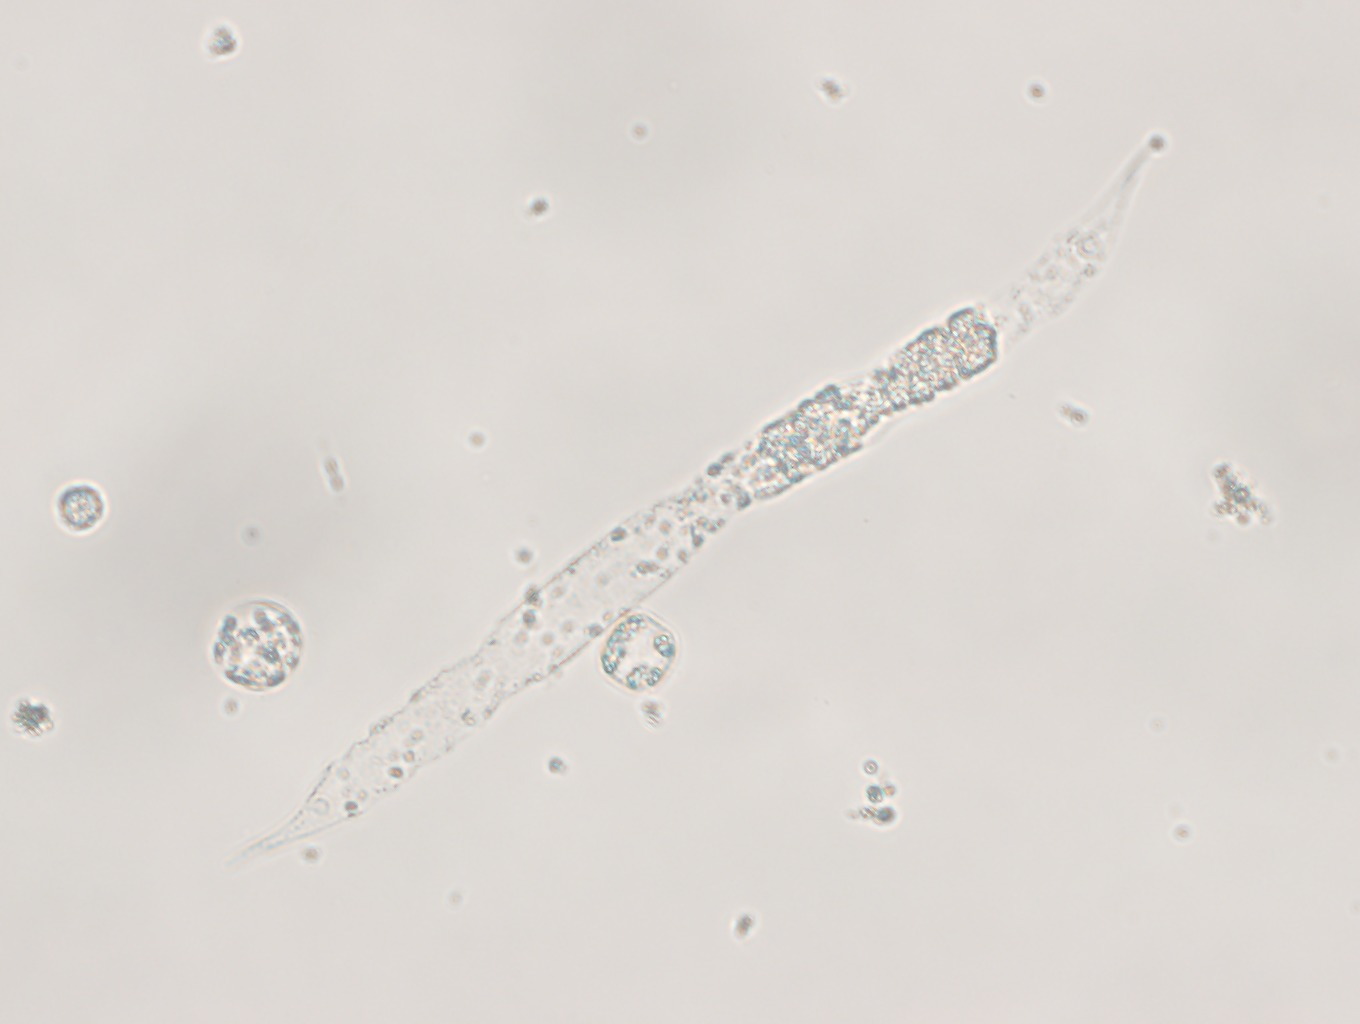rhizosolenia: (221, 136, 1161, 874)
